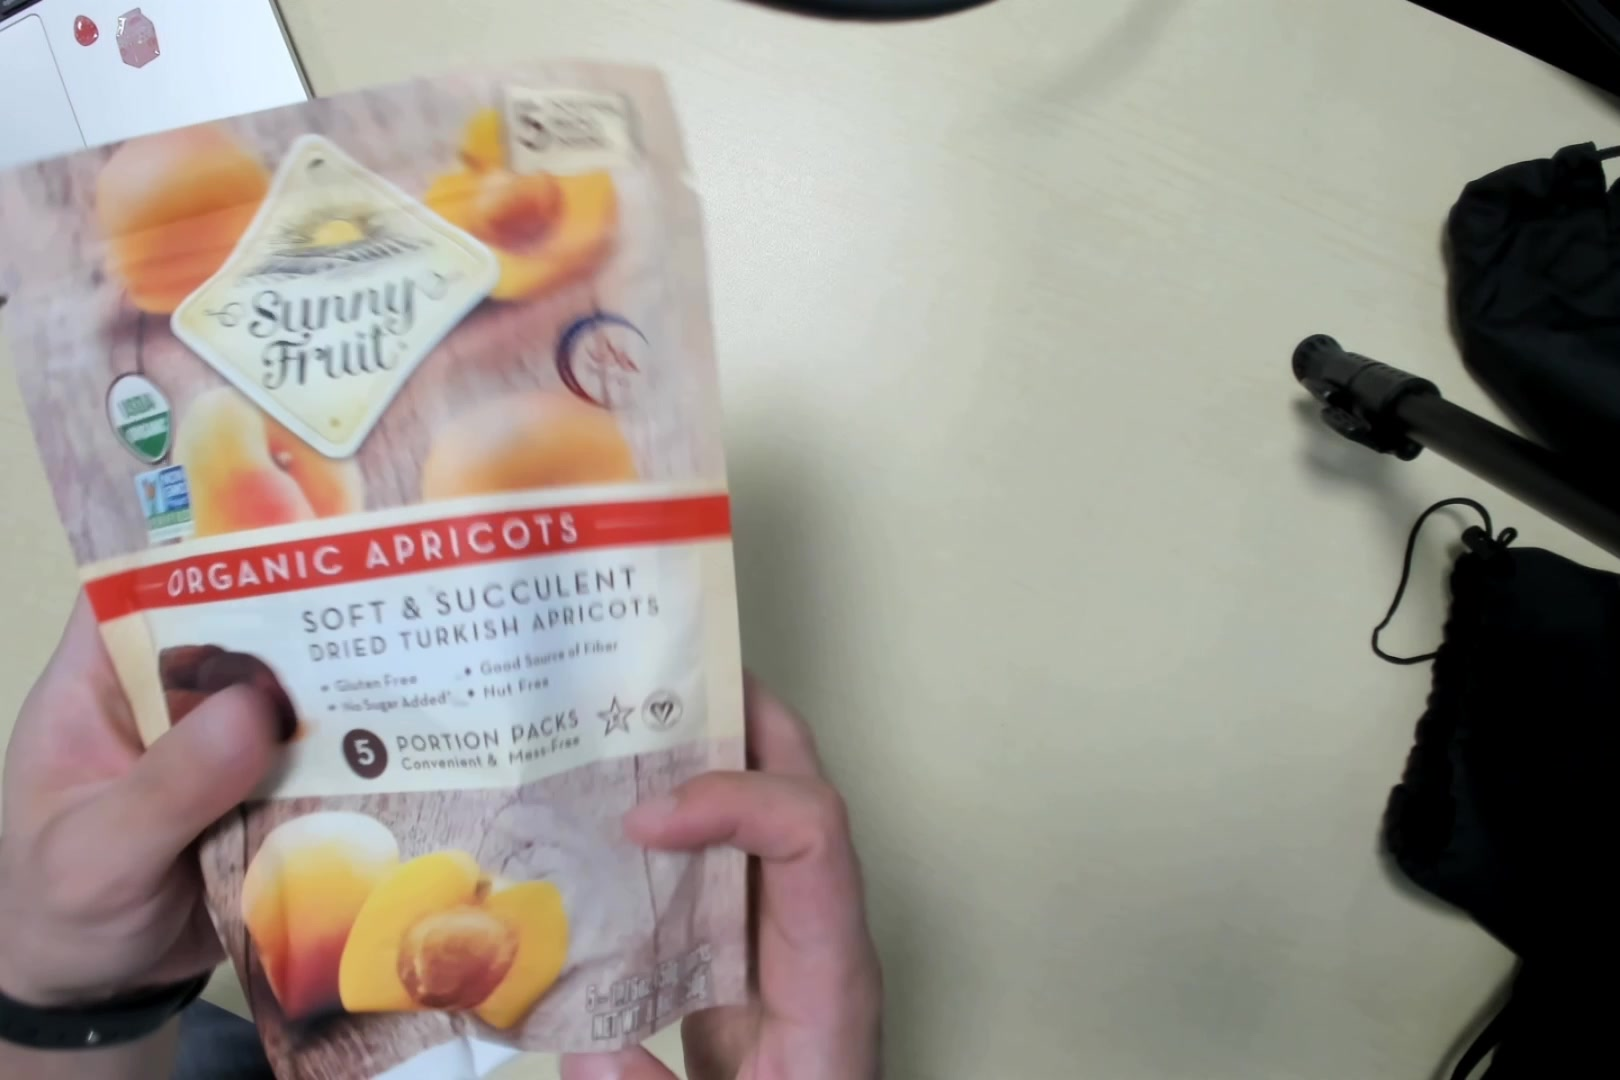DriedFood_0-99g_Halal_NonHealthy: (1, 81, 753, 1075)
